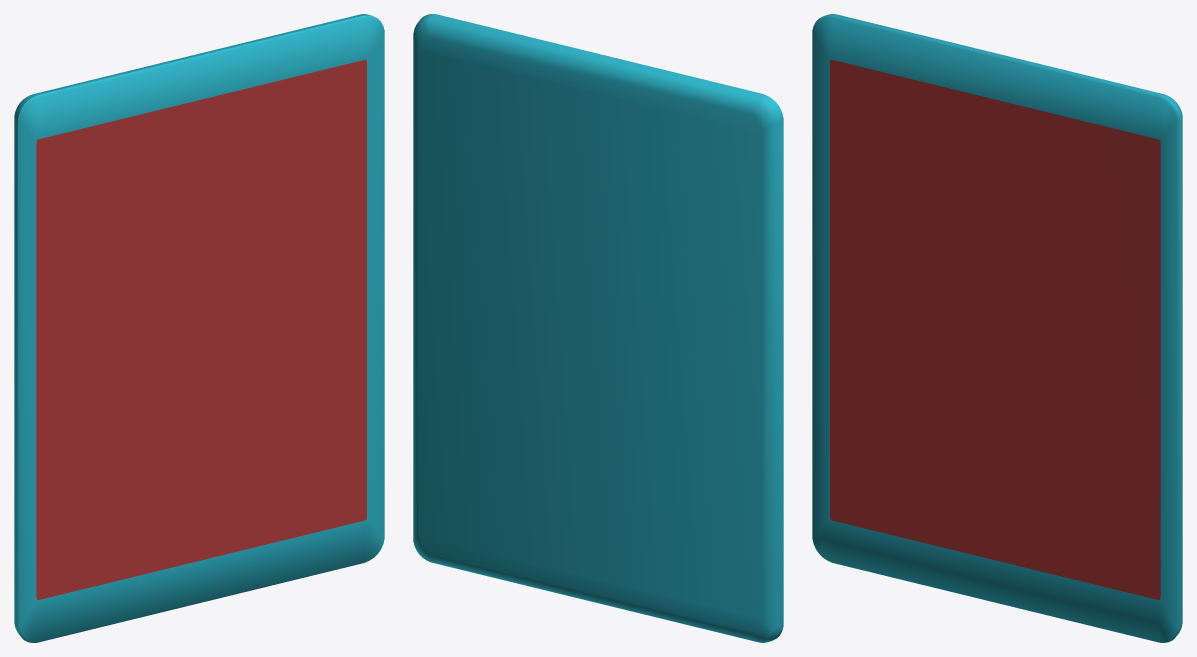
File: Tablet_Game2.FBX
The picture shows the model from 3 angles, left to right: view 1: azimuth 30°, elevation 25°; view 2: azimuth 150°, elevation 25°; view 3: azimuth 330°, elevation 25°; orthographic projection.
Parts seen in each view (by area): view 1: Tablet_lowGame; view 2: Tablet_lowGame; view 3: Tablet_lowGame.
Part boxes in pixels (x1,y1,x2,y2): Tablet_lowGame: (14, 14, 384, 642); Tablet_lowGame: (413, 14, 783, 642); Tablet_lowGame: (812, 14, 1182, 642).
Bounding box in the file's own units: 19.69 × 28.06 × 0.9424.
